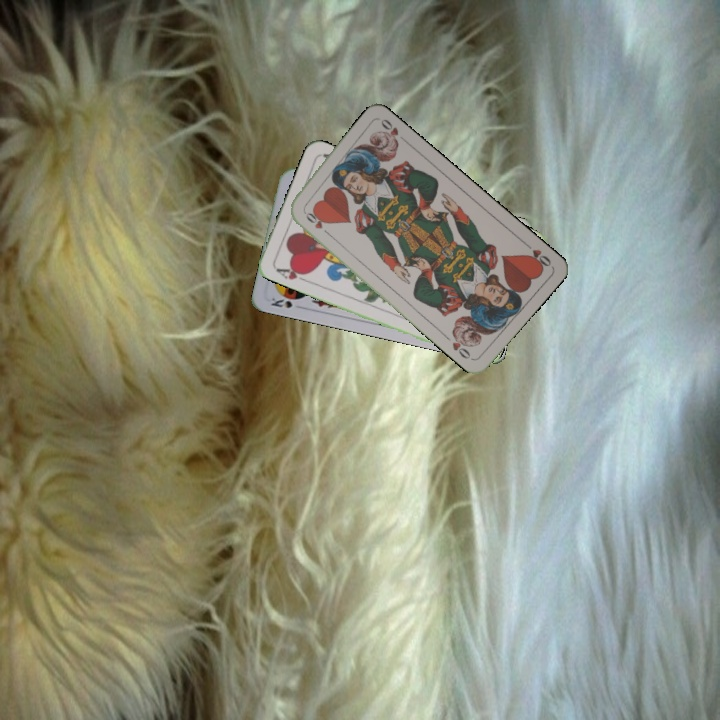HA: (272, 262, 312, 284)
HO: (520, 238, 554, 271), (299, 206, 332, 238)
SK: (267, 293, 295, 311)
